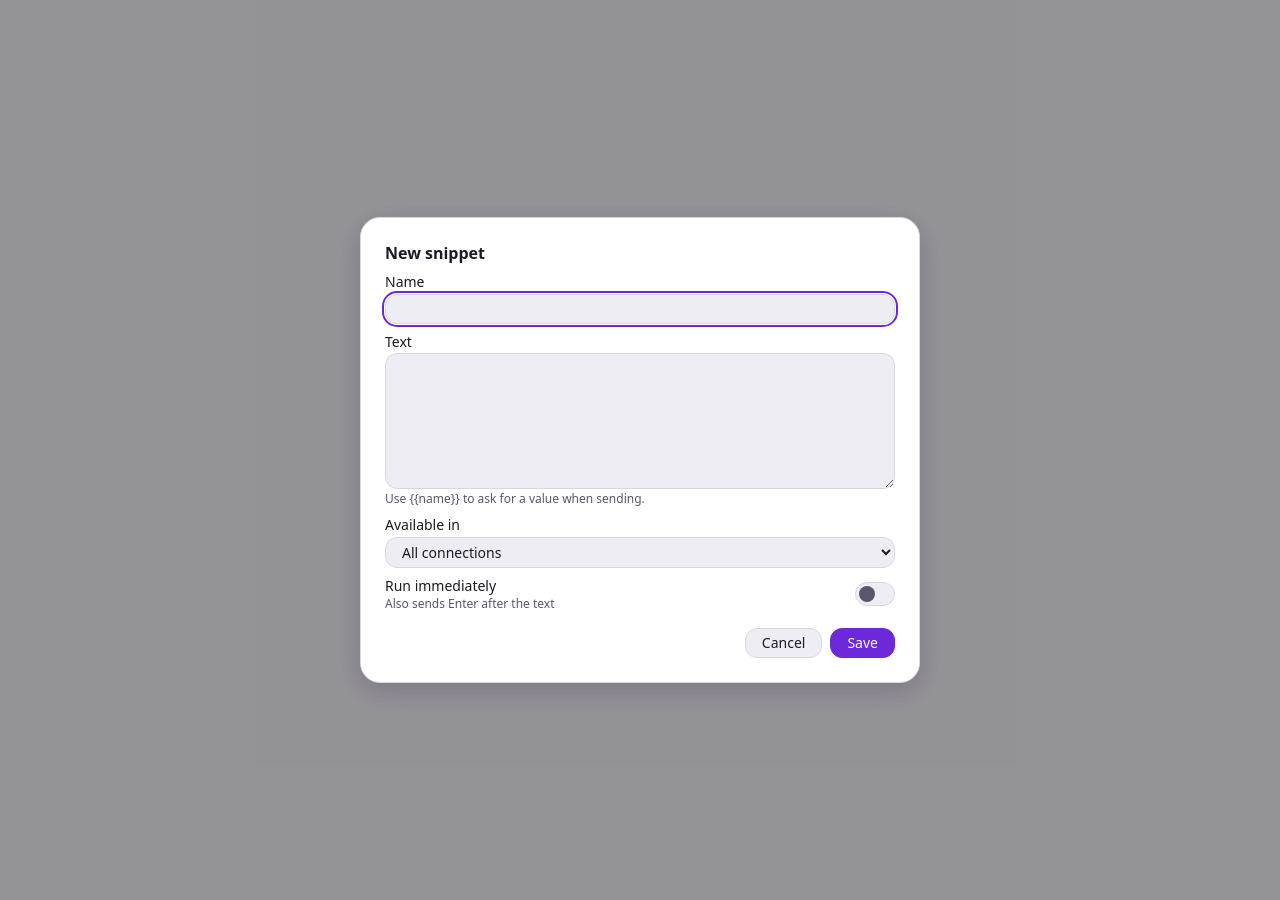
Scenario: empty fields block saving
Click the button "Save".
click(863, 643)  # box [830,628,895,658]
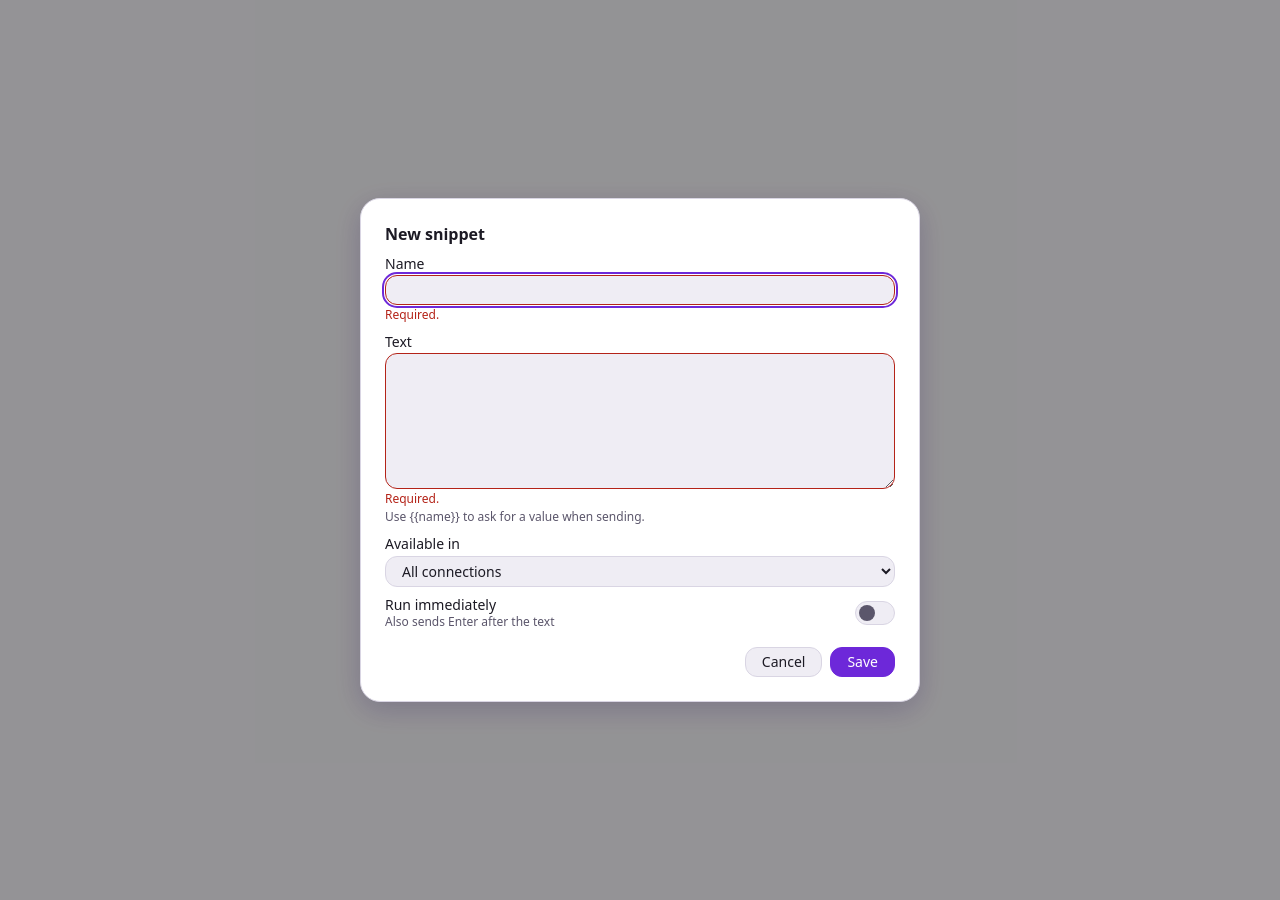
Result: the 1st text "Required." is shown at [385,306,439,323]
